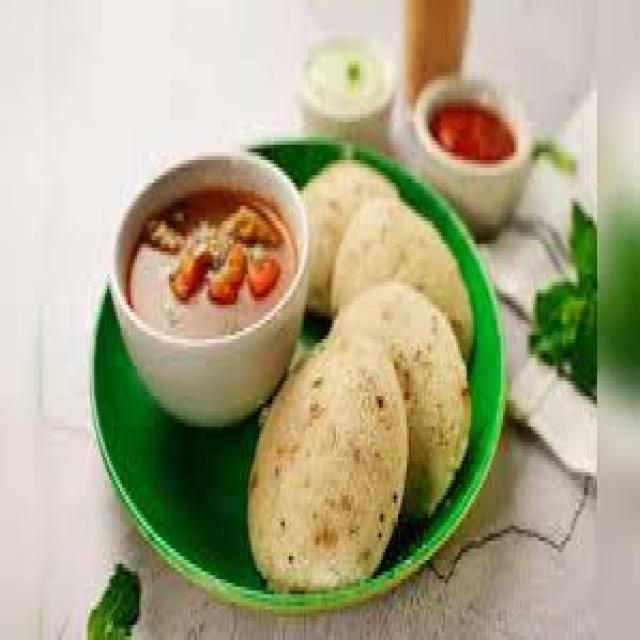IDLI: (248, 324, 407, 587), (340, 282, 469, 510), (332, 198, 471, 354), (302, 160, 396, 309)
